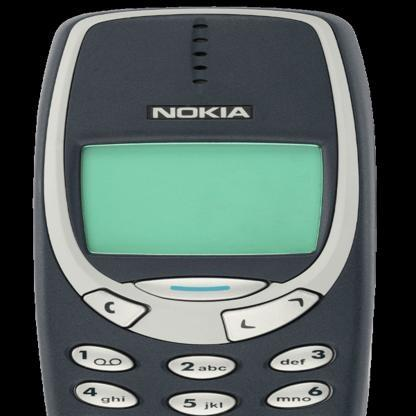not trash: (25, 4, 379, 416)
